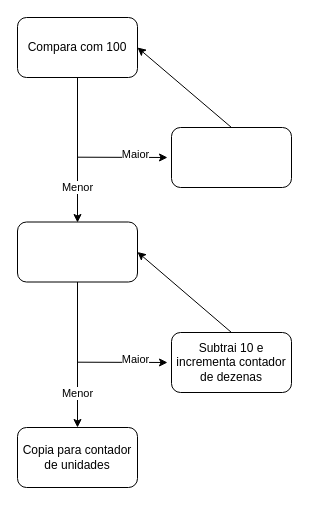
The diagram is 309 pixels wide and 505 high, and some of its shapes have lost their labels. Each missing label, with the centre of its shape:
Compara com 10: (77,251)
Subtrai 100 e incrementa contador de centenas: (231,157)
